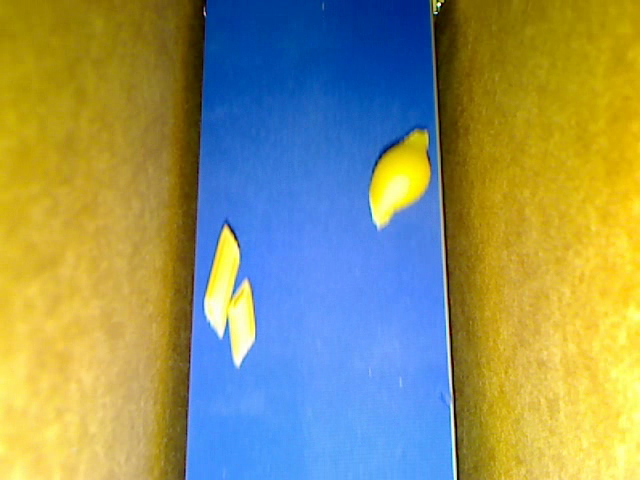penne: (203, 220, 241, 337), (227, 276, 256, 370)
shell: (367, 128, 430, 231)
